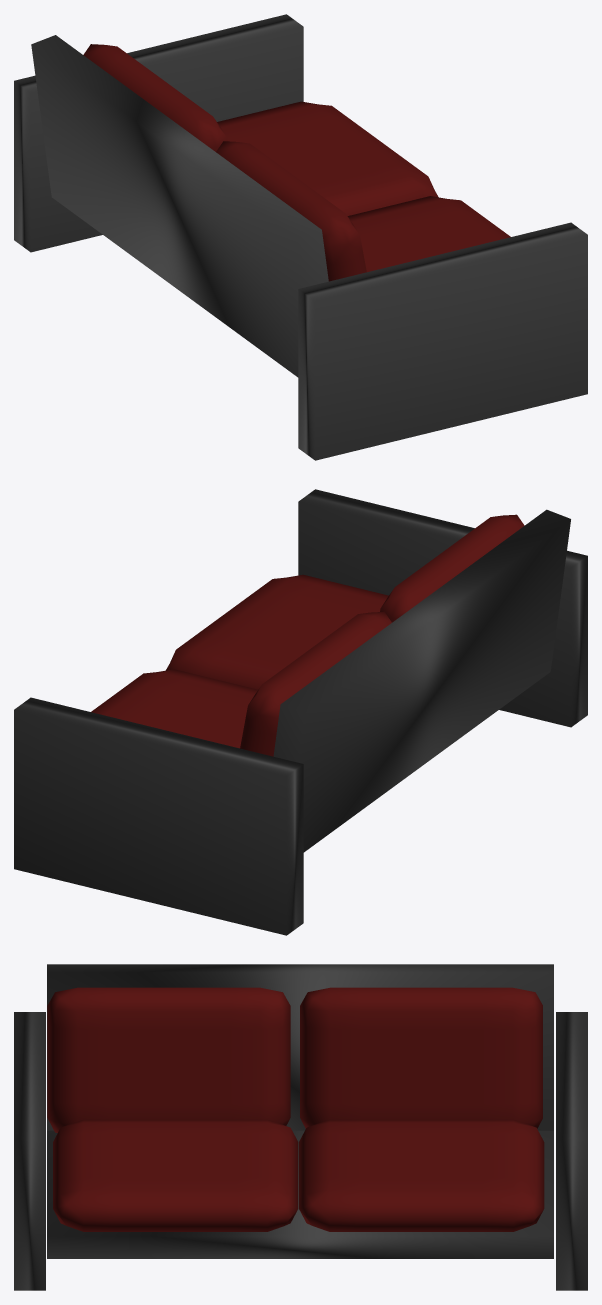
The model's file is CPI441_Fur_Couch_1_V2_Red.fbx.
3 renders of one model, top to bottom at view 1: azimuth 30°, elevation 25°; view 2: azimuth 150°, elevation 25°; view 3: azimuth 270°, elevation 25°, orthographic. The views are drawn at different scales.
Parts seen in each view (by area): view 1: Cube.002; view 2: Cube.002; view 3: Cube.002.
Part boxes in pixels (left/top/right/bottom): Cube.002: left=14, top=14, right=587, bottom=460; Cube.002: left=14, top=489, right=587, bottom=935; Cube.002: left=14, top=964, right=587, bottom=1290.
Bounding box in the file's own units: 375 × 267 × 685.
